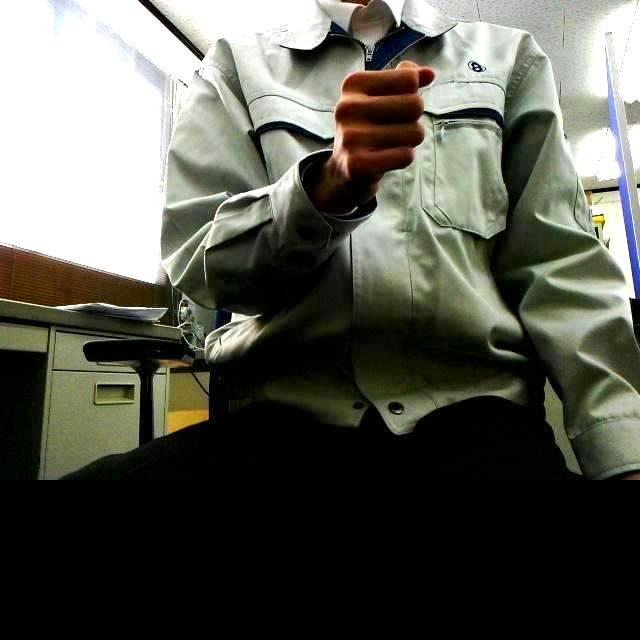gu-: (333, 62, 435, 182)
